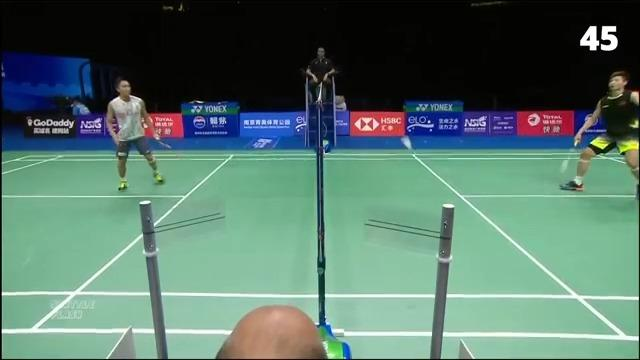Shuttlecock: (398, 132, 419, 156)
